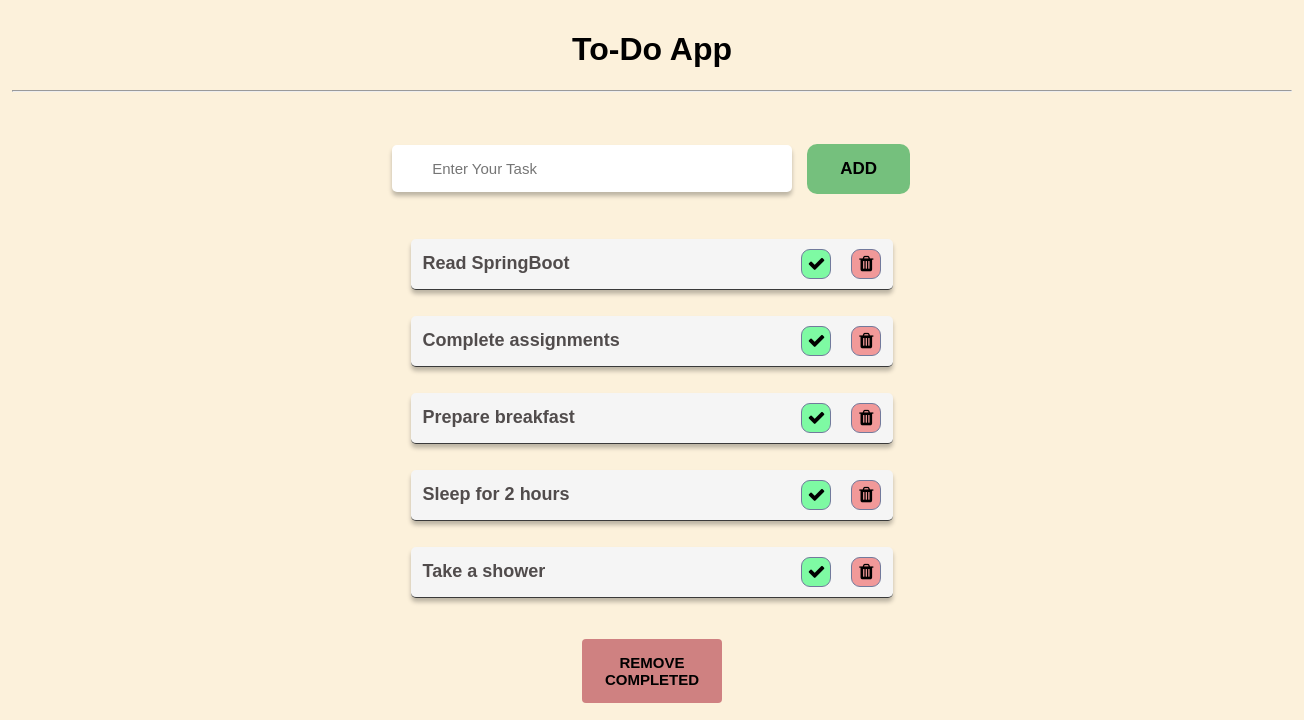
Test: Testing mark as completed and remove completed task functionality › should not display todolist after marking all as completed and removing it
The width and height of the screenshot is (1304, 720).
Click the 1st button with test id "donetask-button": (816, 264) [801, 249, 831, 279]
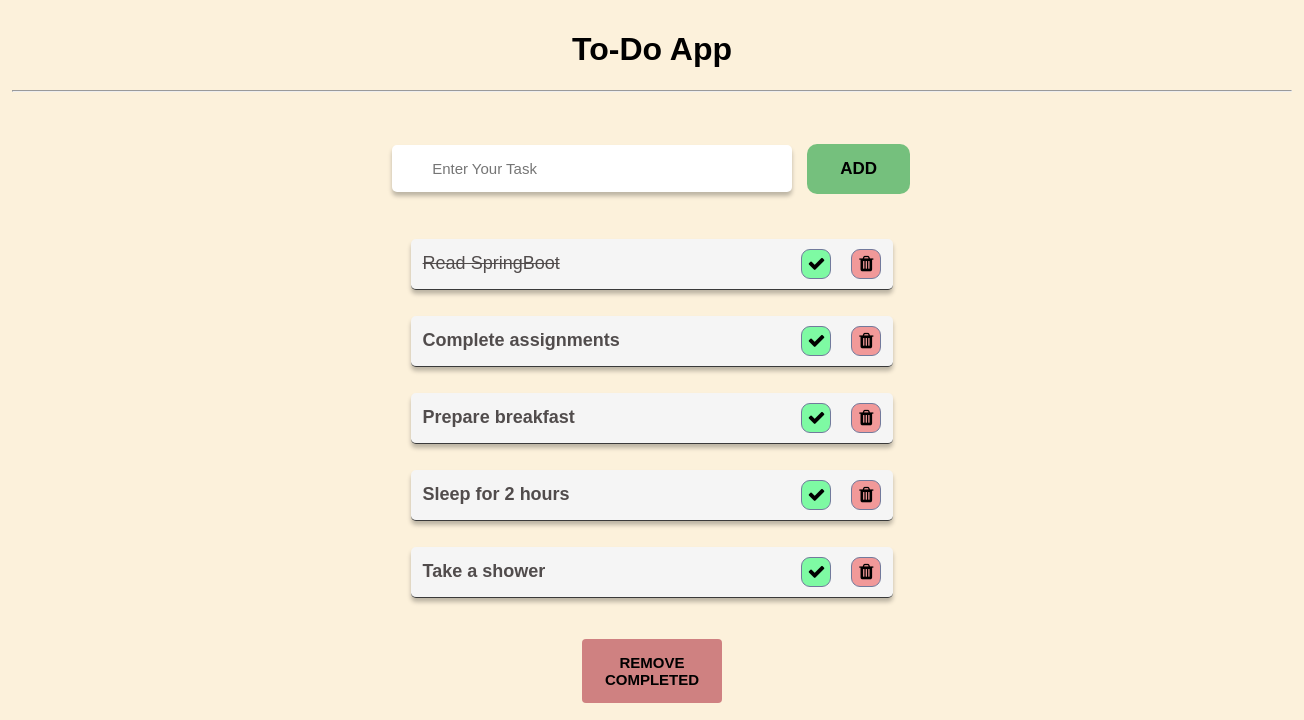
Click the 2nd button with test id "donetask-button": (816, 341) [801, 326, 831, 356]
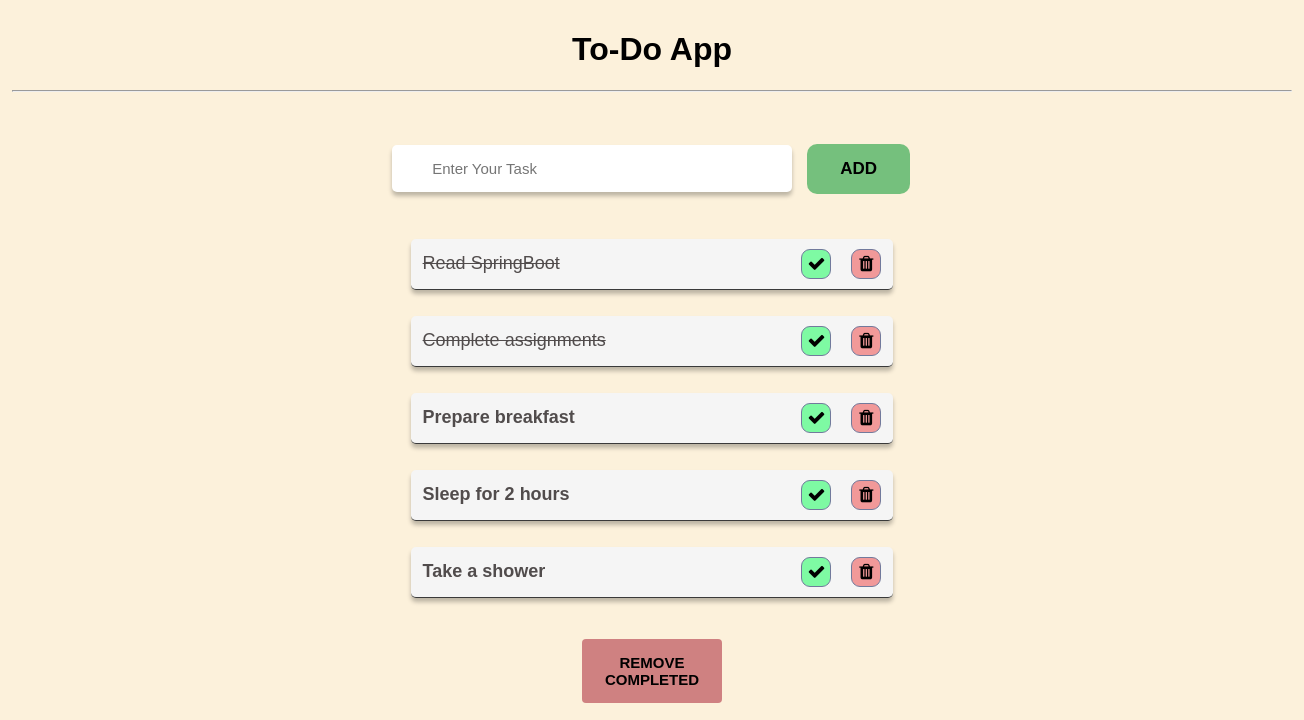
Click the 3rd button with test id "donetask-button": (816, 418) [801, 403, 831, 433]
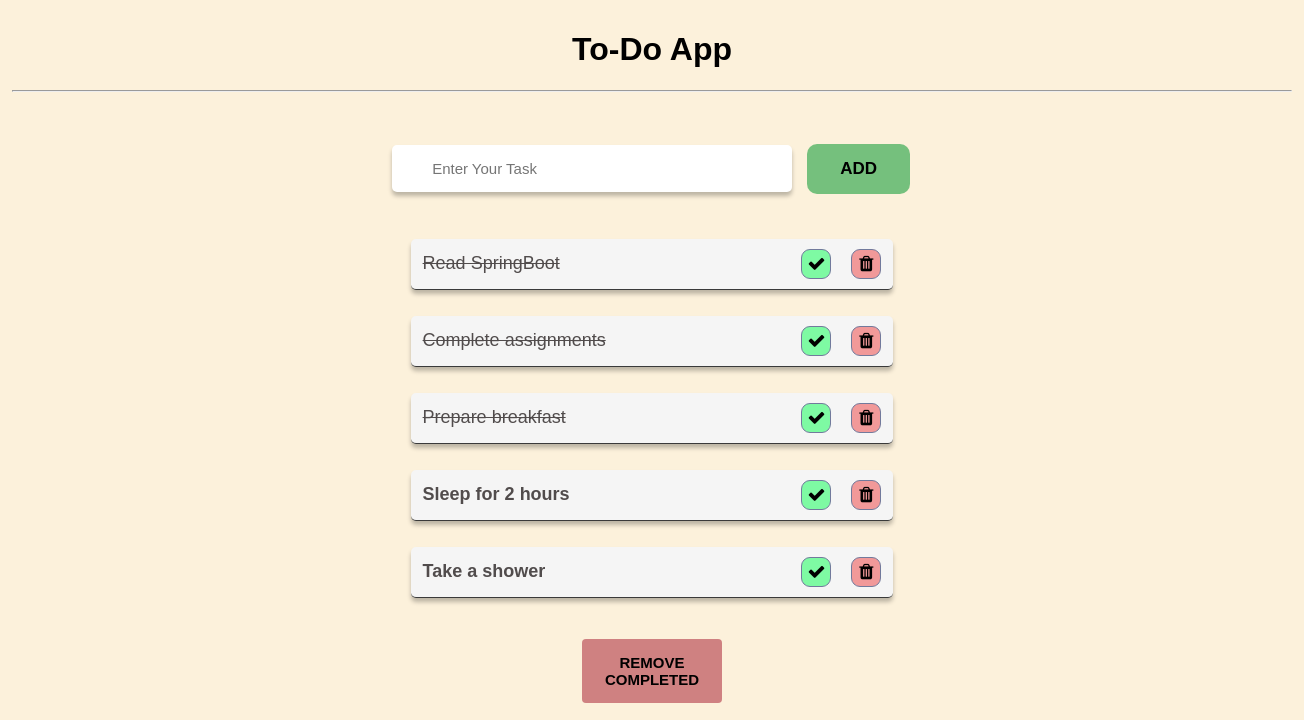
Click the 4th button with test id "donetask-button": (816, 495) [801, 480, 831, 510]
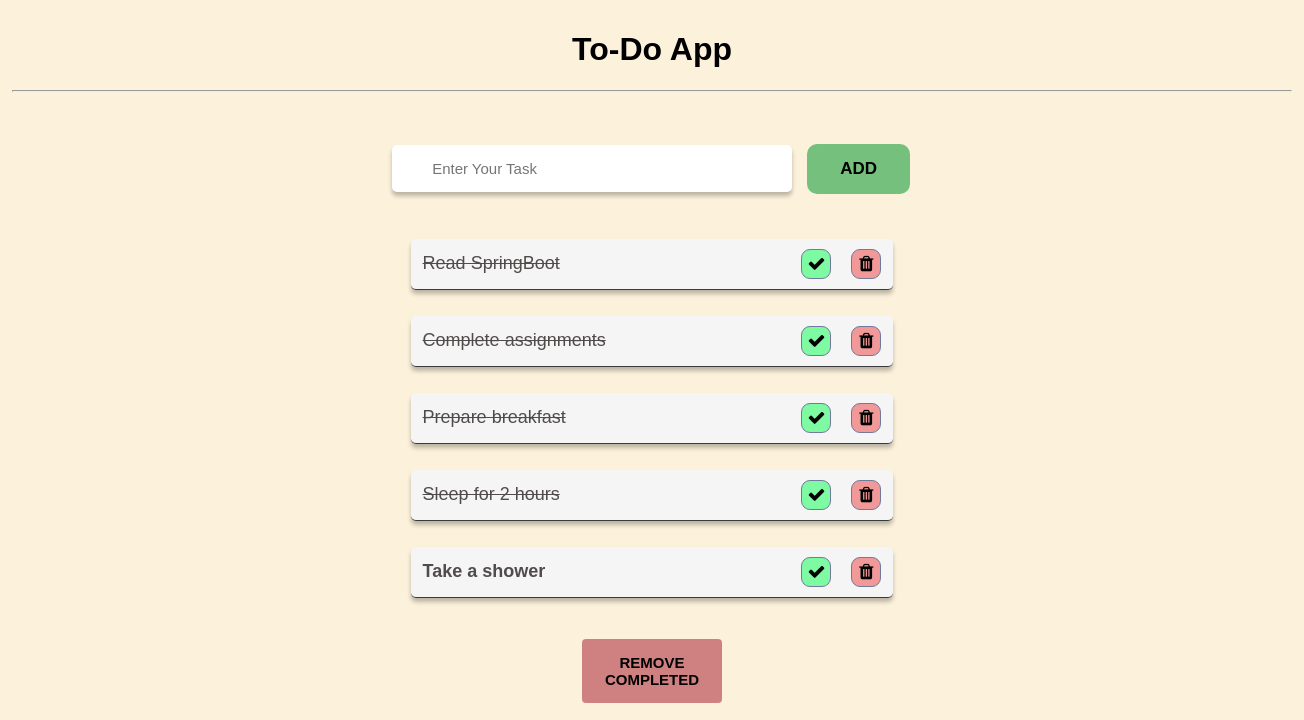
Click the 5th button with test id "donetask-button": (816, 572) [801, 557, 831, 587]
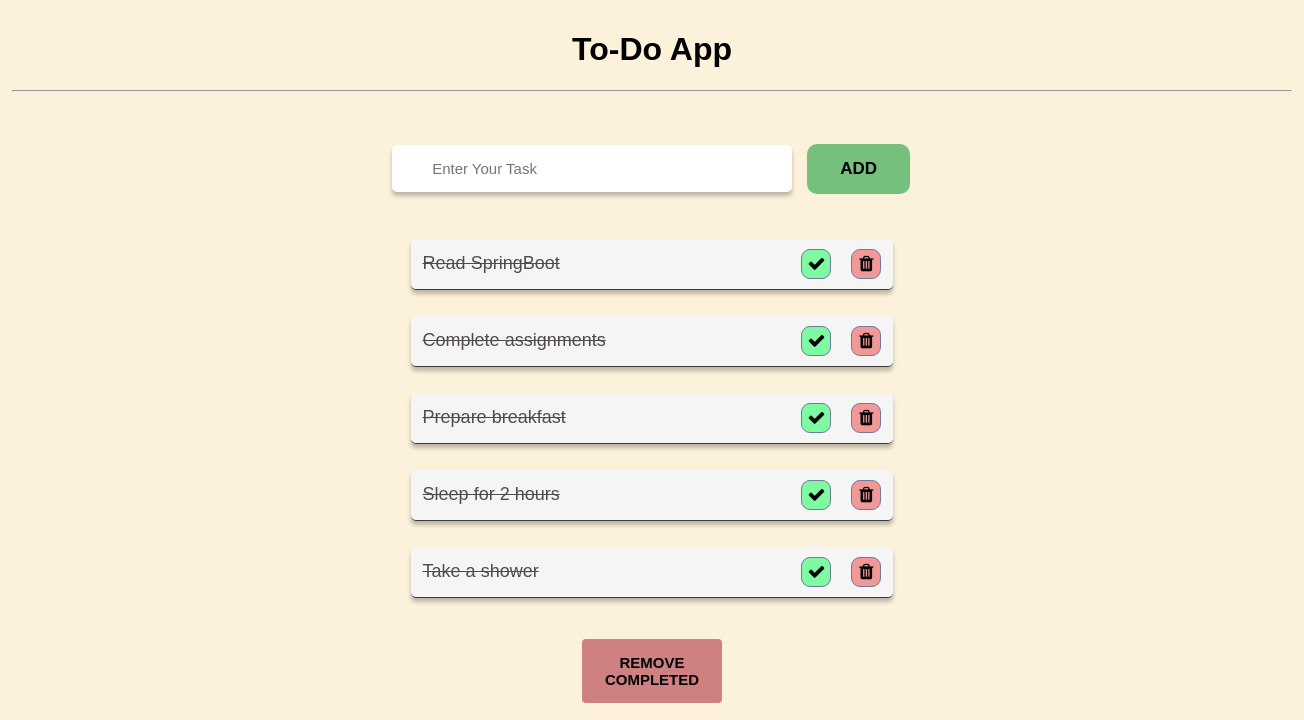
Click the button with test id "remove-completed": (652, 671) [582, 639, 722, 703]
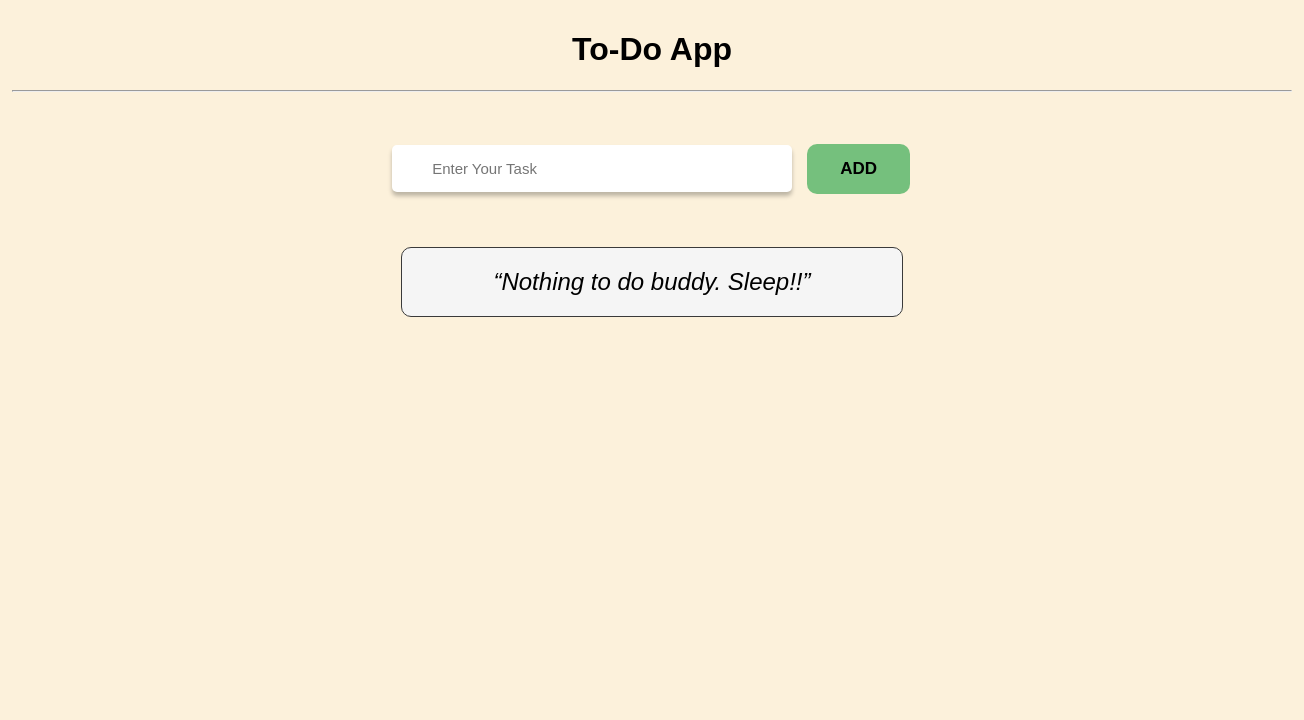
Now the element with test id "todo" reads "“Nothing to do buddy. Sleep!!”", box [493, 268, 810, 295]
